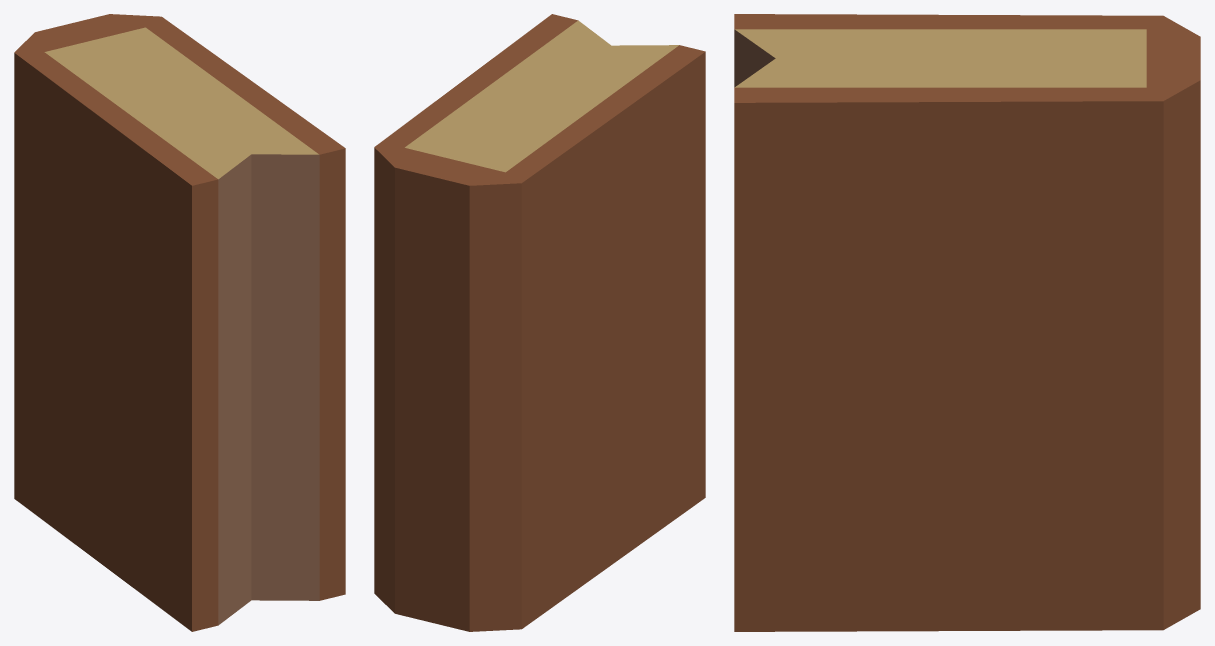
File: TB_Prop_Book_G.FBX
The picture shows the model from 3 angles, left to right: view 1: azimuth 30°, elevation 25°; view 2: azimuth 150°, elevation 25°; view 3: azimuth 270°, elevation 25°; orthographic projection. The views are drawn at different scales.
Visible parts, largest first — view 1: TB_Prop_Book_G; view 2: TB_Prop_Book_G; view 3: TB_Prop_Book_G.
Boxes of the visible parts, x1=… form: TB_Prop_Book_G: x1=14, y1=14, x2=345, y2=631; TB_Prop_Book_G: x1=374, y1=14, x2=705, y2=631; TB_Prop_Book_G: x1=734, y1=14, x2=1200, y2=631.
Size of the model in its own units: 0.182 by 0.5049 by 0.4035.
